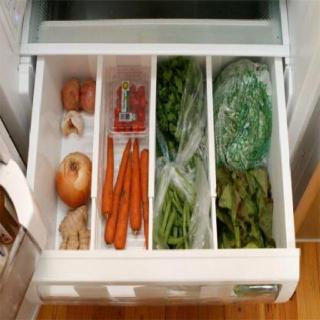carrot: (114, 152, 132, 252), (101, 132, 115, 224), (140, 143, 150, 250), (131, 133, 141, 236)
